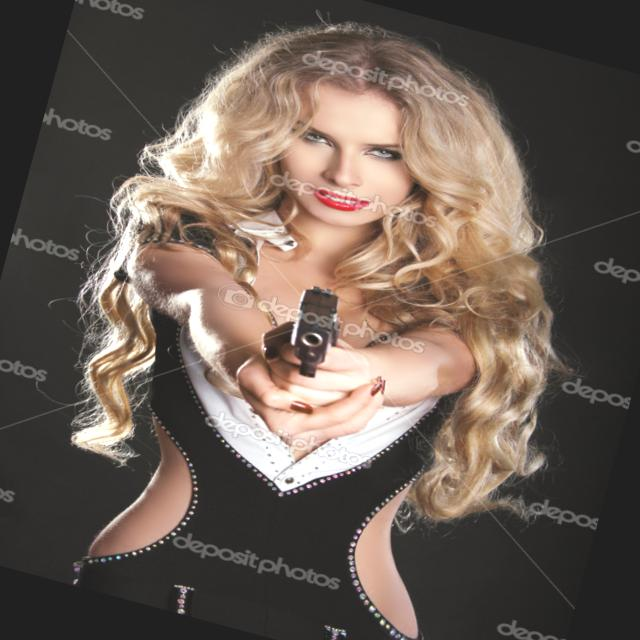handgun: (258, 266, 364, 396)
